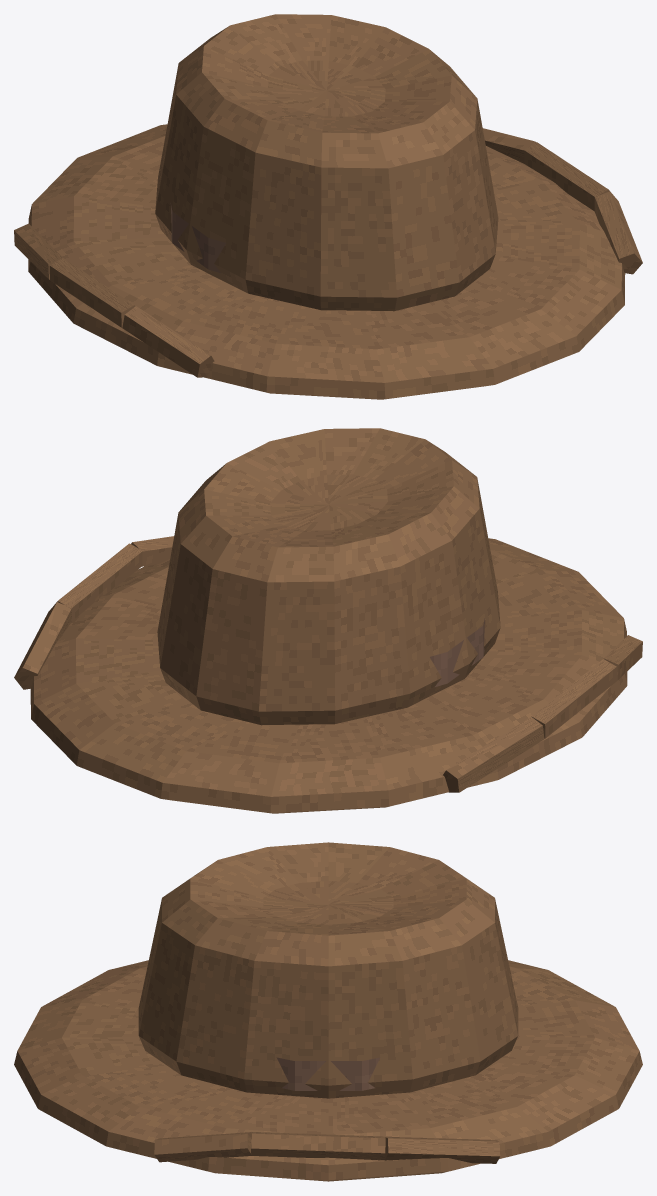
File: 10gal_hat.glb
The picture shows the model from 3 angles, top to bottom: view 1: azimuth 30°, elevation 25°; view 2: azimuth 150°, elevation 25°; view 3: azimuth 270°, elevation 25°; orthographic projection. The views are drawn at different scales.
Visible parts, largest first — view 1: block_pinched crown, block_wide western brim, block_rolled side brim 2 (×2), block_rolled side brim 1 (×2), block_rolled side brim 0 (×2), block_leather hatband; view 2: block_pinched crown, block_wide western brim, block_rolled side brim 0 (×2), block_rolled side brim 1 (×2), block_rolled side brim 2 (×2), block_leather hatband; view 3: block_pinched crown, block_wide western brim, block_rolled side brim 1, block_rolled side brim 0, block_rolled side brim 2, block_leather hatband.
Boxes of the visible parts, x1,y1,x2,y2 form: block_pinched crown: (155,14,498,311); block_wide western brim: (28,124,625,399); block_rolled side brim 2 (×2): (122,191,642,377); block_rolled side brim 1 (×2): (49,142,614,327); block_rolled side brim 0 (×2): (14,128,535,279); block_leather hatband: (170,203,225,272); block_pinched crown: (157,428,500,725); block_wide western brim: (30,538,627,813); block_rolled side brim 0 (×2): (14,602,544,792); block_rolled side brim 1 (×2): (54,543,617,738); block_rolled side brim 2 (×2): (131,536,642,680); block_leather hatband: (430,618,484,686); block_pinched crown: (138,842,518,1098); block_wide western brim: (14,960,642,1181); block_rolled side brim 1: (251,1132,385,1160); block_rolled side brim 0: (384,1136,500,1163); block_rolled side brim 2: (154,1132,252,1162); block_leather hatband: (276,1057,380,1090).
Bounding box in the file's own units: 0.3033 × 0.1124 × 0.3488.
1 material, 1 textured.
